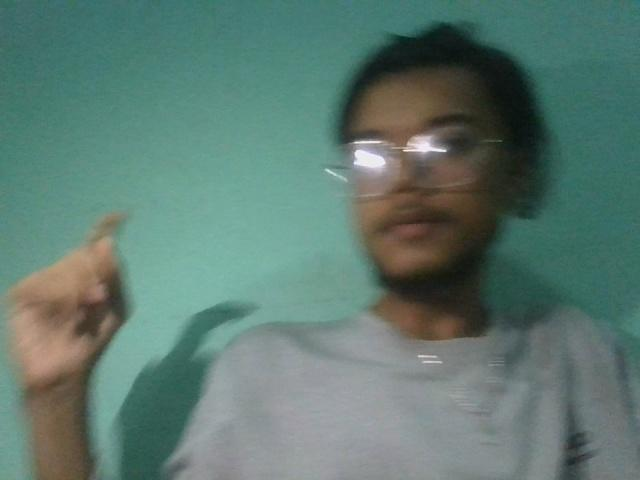Washroom: (6, 205, 142, 397)
